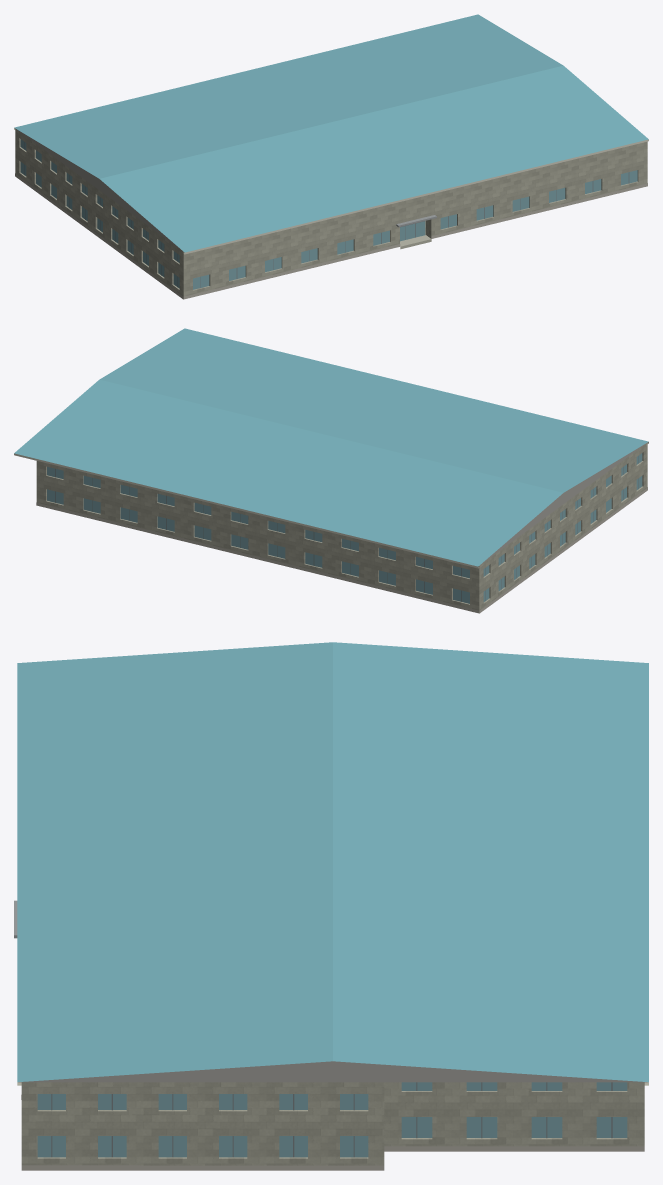
3 views of the same model, one above another, from view 1: azimuth 30°, elevation 25°; view 2: azimuth 150°, elevation 25°; view 3: azimuth 270°, elevation 25° (orthographic). The views are drawn at different scales.
Parts seen in each view (by area): view 1: englab__roofAccent, englab__wall, englab__glass, englab__base, englab__trim, englab__wall2; view 2: englab__roofAccent, englab__wall, englab__glass, englab__base, englab__trim, englab__wall2, englab__frame; view 3: englab__roofAccent, englab__wall, englab__glass, englab__wall2, englab__base.
Part boxes in pixels (<box>): englab__roofAccent: <box>14,14,648,252</box>; englab__wall: <box>15,129,647,298</box>; englab__glass: <box>20,139,637,289</box>; englab__base: <box>15,173,647,299</box>; englab__trim: <box>14,128,648,254</box>; englab__wall2: <box>15,128,182,250</box>; englab__roofAccent: <box>14,328,648,566</box>; englab__wall: <box>36,443,647,612</box>; englab__glass: <box>47,453,642,603</box>; englab__base: <box>36,487,647,613</box>; englab__trim: <box>14,442,648,568</box>; englab__wall2: <box>480,442,647,564</box>; englab__frame: <box>55,456,638,601</box>; englab__roofAccent: <box>17,642,648,1082</box>; englab__wall: <box>21,1082,644,1165</box>; englab__glass: <box>37,1082,627,1157</box>; englab__wall2: <box>18,1061,647,1082</box>; englab__base: <box>21,1095,644,1170</box>.
Bounding box in the file's own units: 77.45 × 9.8 × 49.54.
11 materials, 1 textured.
